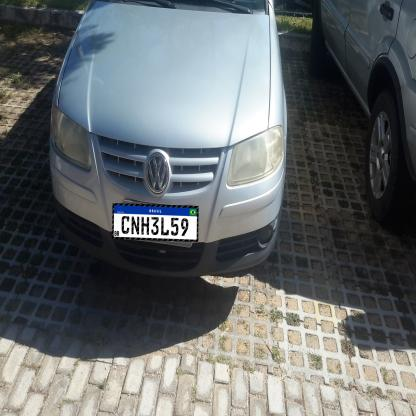PlacaM: (112, 203, 199, 242)
